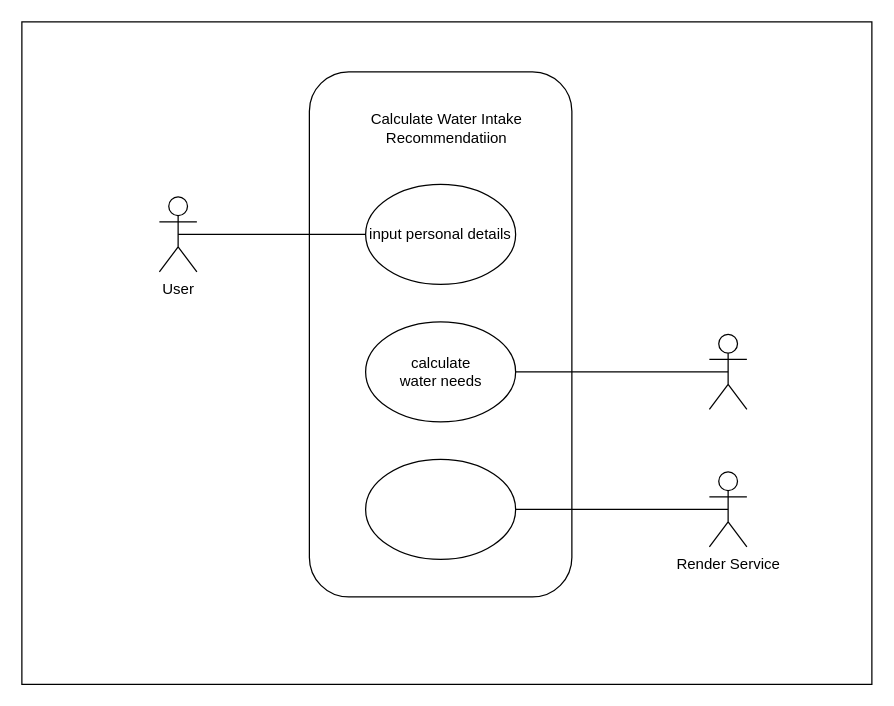
Image size: 894x706. Some labels were removed from this diagram. The shapes that lost their labels are listed below. From the top down, each one's box as (x1, y1, x2, y2) in pixels, then its label:
(708, 333, 747, 409): Intake Calculation Service
(364, 458, 516, 559): display calculation
